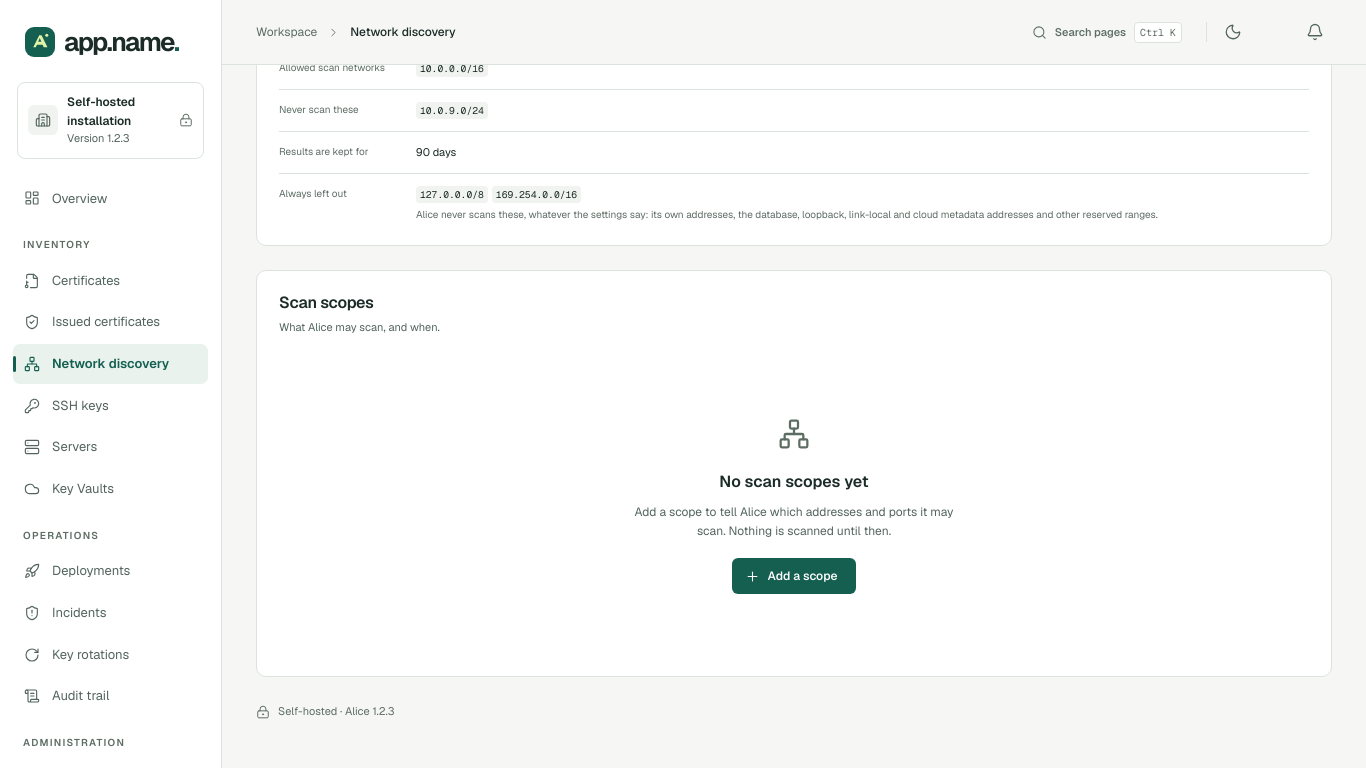
Test: the scope dialog › counts host names apart and names one address and one port in the singular
(page scrolled)
Click the button "Add a scope" at (794, 576), box [732, 558, 856, 594]
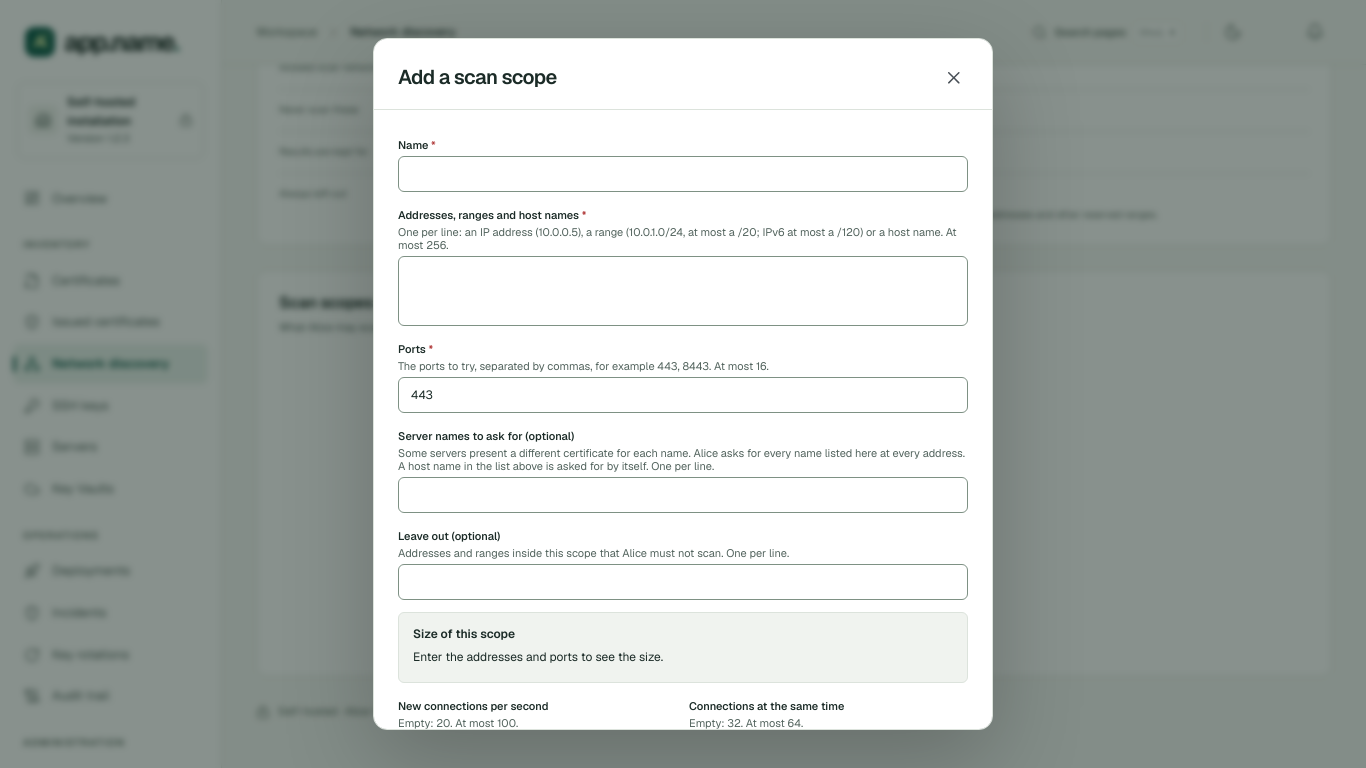
Type "10.0.0.1" into the text box labelled "Addresses, ranges and host names *" at (683, 291), box [398, 256, 968, 326]
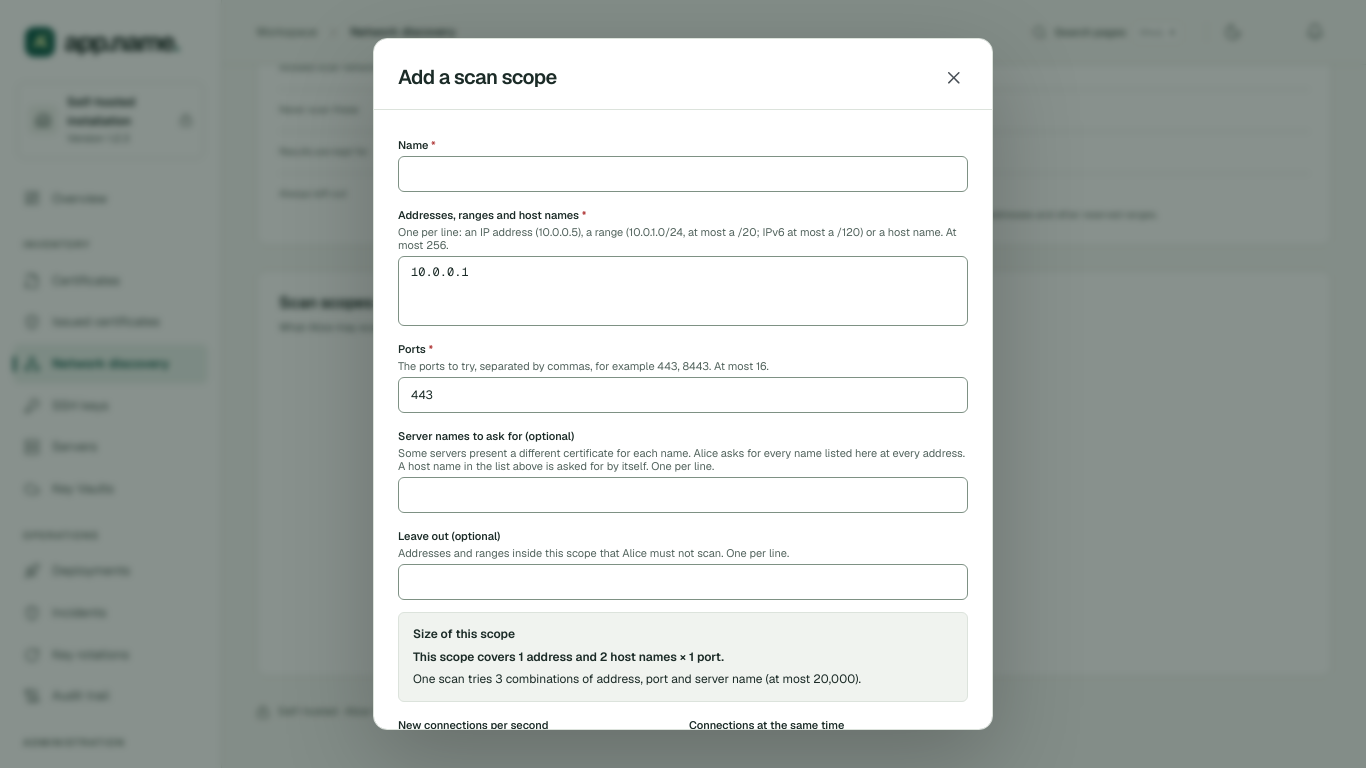
Now the text "This scope covers 1 address and 2 host names × 1 port." is shown, box [413, 648, 724, 664]
